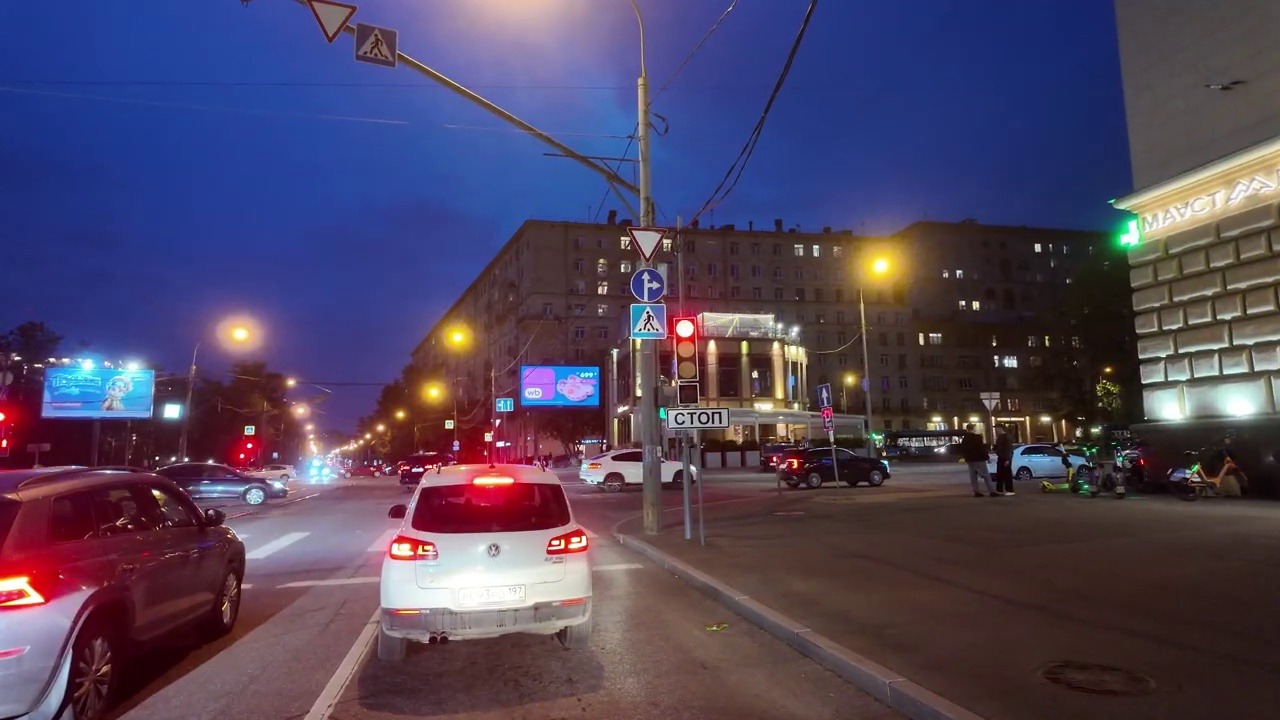acesa: (862, 250, 899, 284), (221, 318, 258, 350), (441, 322, 476, 355), (419, 377, 448, 408)
